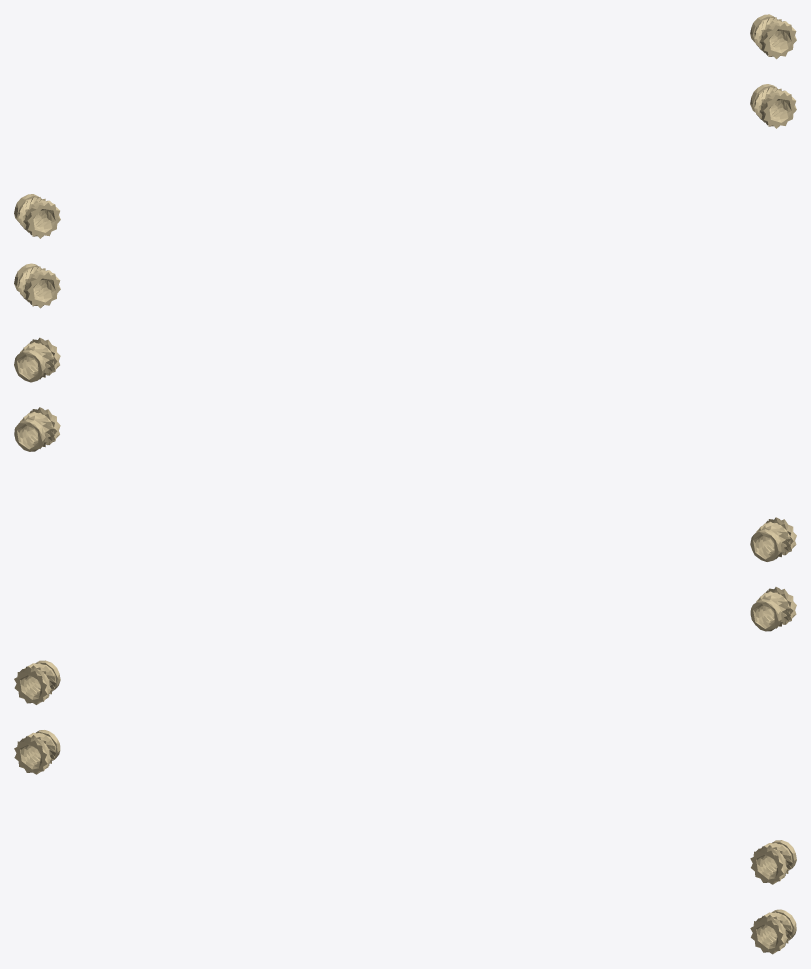
File: m2_hardware.glb
3 renders of one model, top to bottom at view 1: azimuth 30°, elevation 25°; view 2: azimuth 150°, elevation 25°; view 3: azimuth 330°, elevation 25°, orthographic.
Parts seen in each view (by area): view 1: c0; view 2: c0; view 3: c0.
Boxes of the visible parts, <box> form: c0: <box>14,14,796,308</box>; c0: <box>14,337,796,631</box>; c0: <box>14,660,796,954</box>.
Bounding box in the file's own units: 83.44 × 10.91 × 3.
